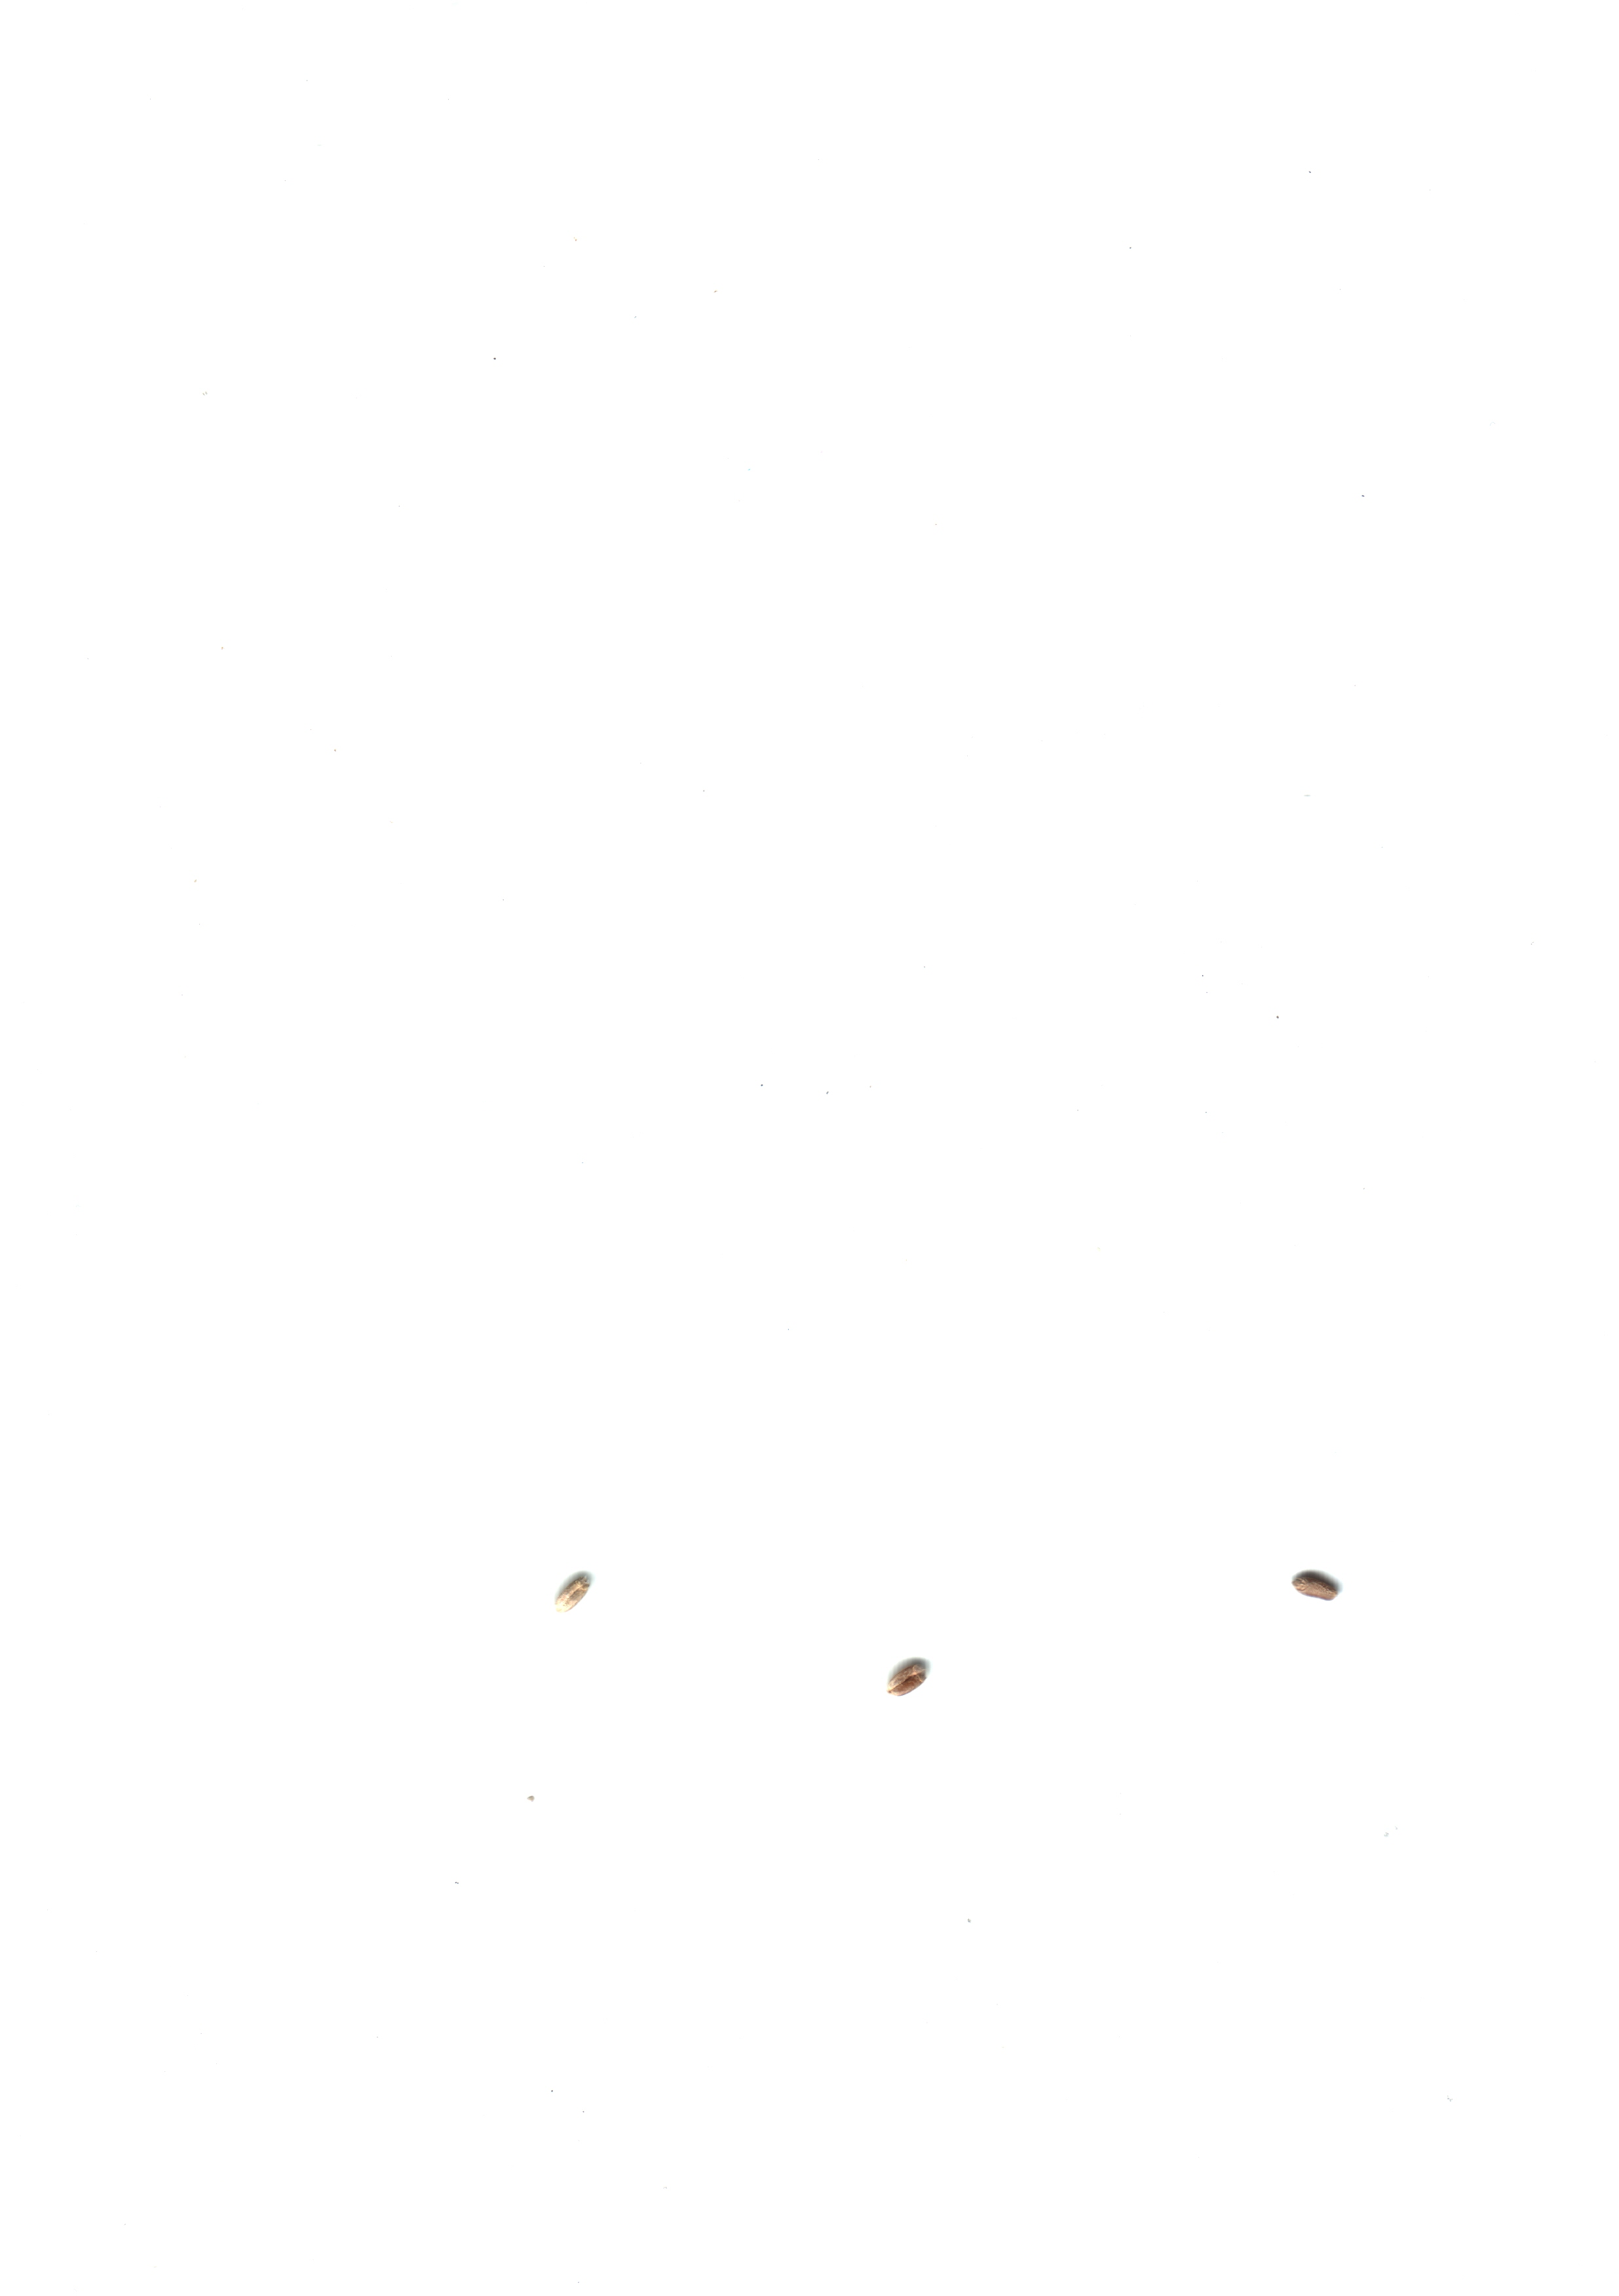grains_2_5mm: (536, 1548, 619, 1637), (867, 1633, 950, 1721), (1277, 1535, 1358, 1625)
